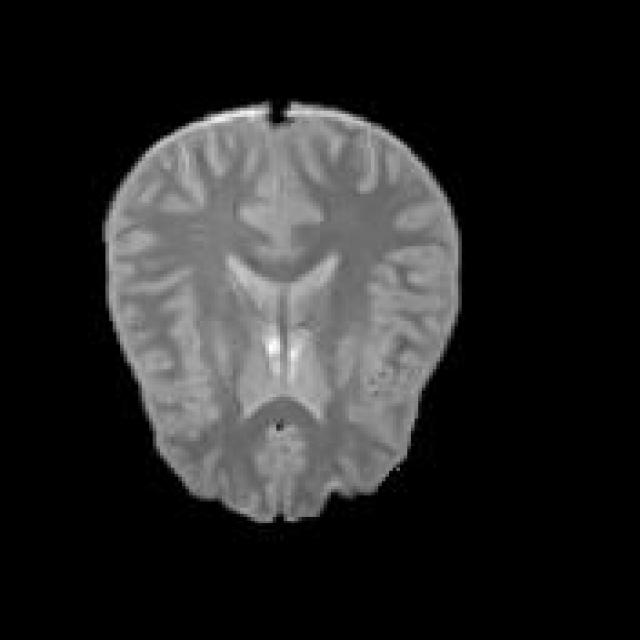CONTROL: (102, 95, 462, 523)
